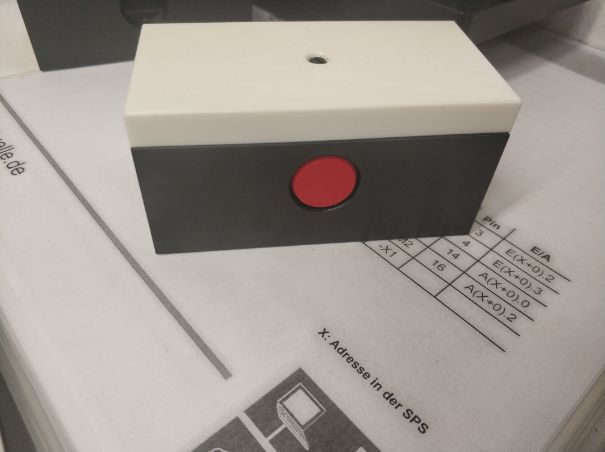white+black+red: (118, 15, 524, 260)
